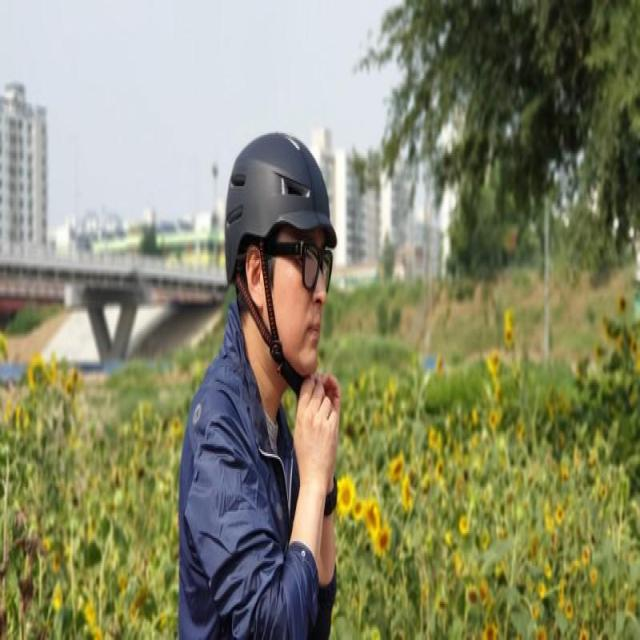Helmet: (224, 130, 337, 390)
